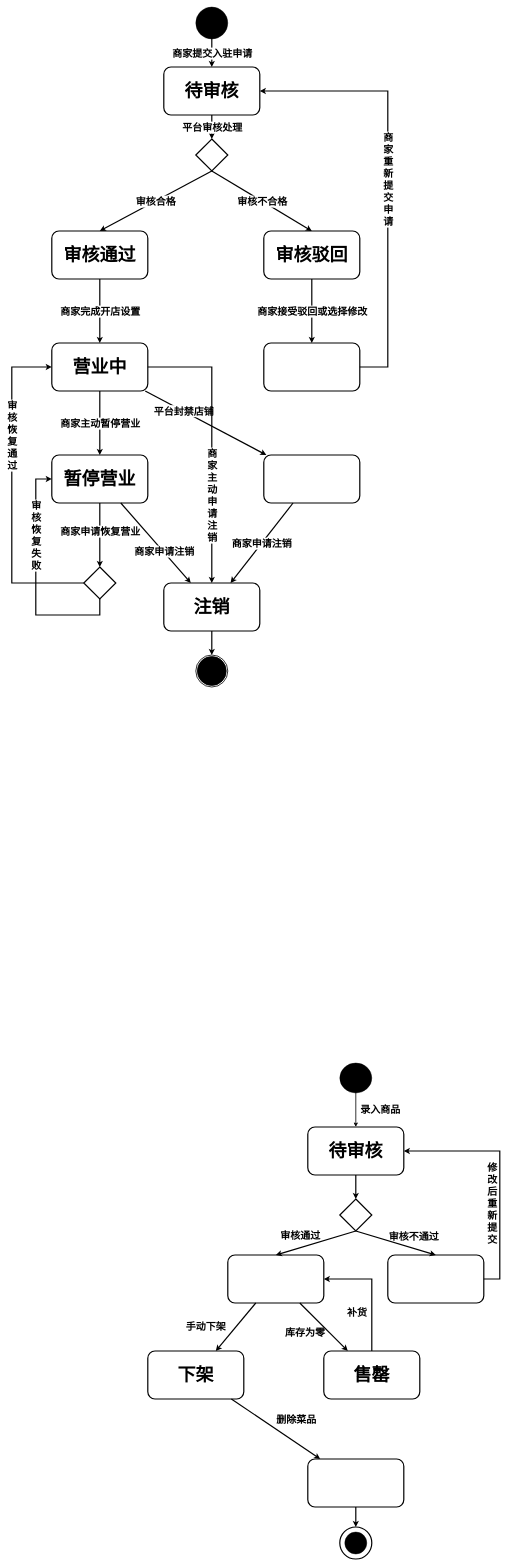
The diagram is 510 pixels wide and 1566 high, and some of its shapes have lost their labels. Each missing label, with the box of its shape:
上架: (227, 1254, 324, 1303)
修改资料: (263, 342, 360, 391)
删除: (307, 1458, 404, 1507)
被下架: (263, 454, 360, 503)
驳回: (387, 1254, 484, 1303)
